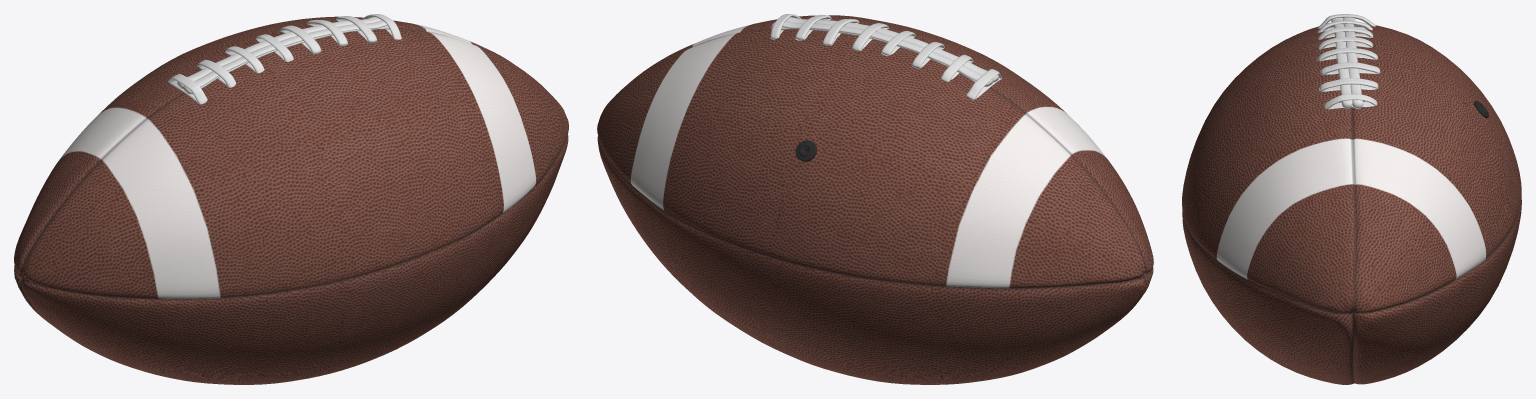
Rendered from AmericanFootball.fbx.
3 views of the same model, side by side, from view 1: azimuth 30°, elevation 25°; view 2: azimuth 150°, elevation 25°; view 3: azimuth 270°, elevation 25° (orthographic). The views are drawn at different scales.
Visible parts, largest first — view 1: AmericanFootball; view 2: AmericanFootball; view 3: AmericanFootball.
Part boxes in pixels (<box>): AmericanFootball: <box>14,14,568,384</box>; AmericanFootball: <box>597,14,1153,384</box>; AmericanFootball: <box>1182,14,1521,384</box>.
Size of the model in its own units: 31.24 by 18.28 by 18.21.
1 material, 1 textured.
